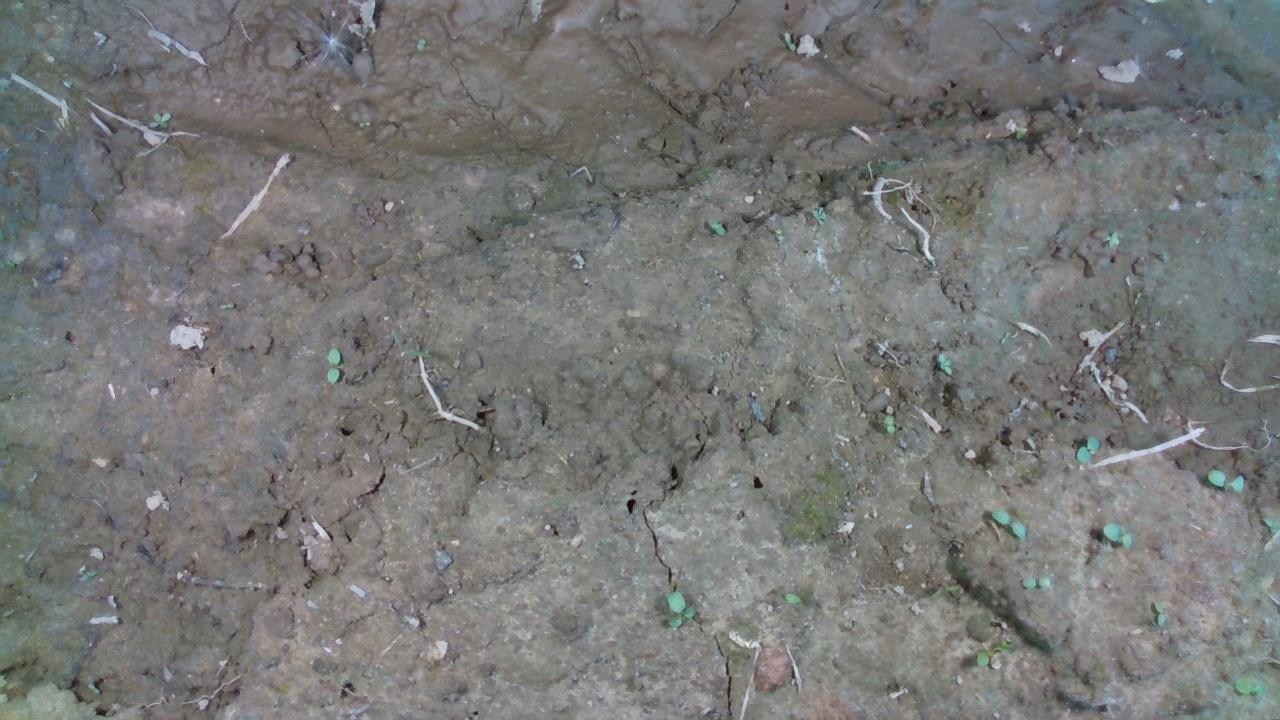weed: (987, 503, 1034, 547), (1197, 463, 1248, 495), (663, 588, 700, 631), (1097, 518, 1143, 550), (1016, 571, 1065, 594), (1071, 434, 1103, 468), (323, 346, 346, 388), (213, 296, 245, 318), (804, 204, 829, 229), (933, 352, 959, 375), (1102, 227, 1123, 249), (881, 410, 900, 434), (701, 215, 727, 232), (770, 225, 793, 242)
